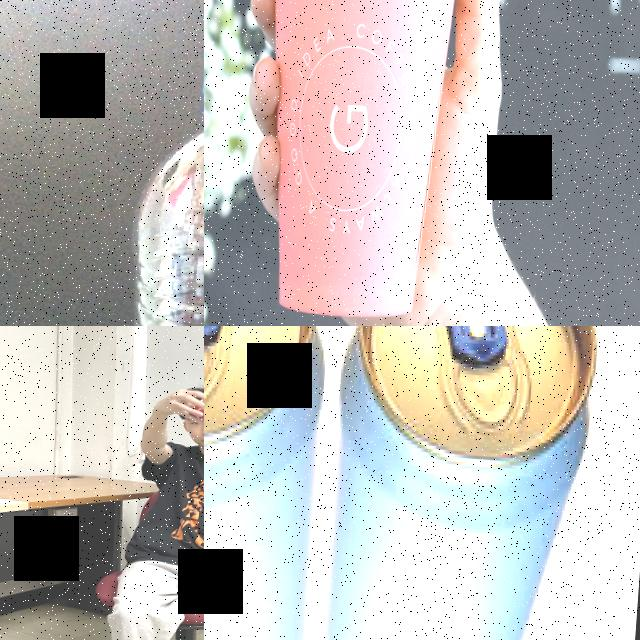bottle: (104, 58, 204, 326)
can: (298, 326, 609, 640), (204, 326, 346, 640), (181, 396, 204, 447)
cup: (237, 0, 474, 323)
